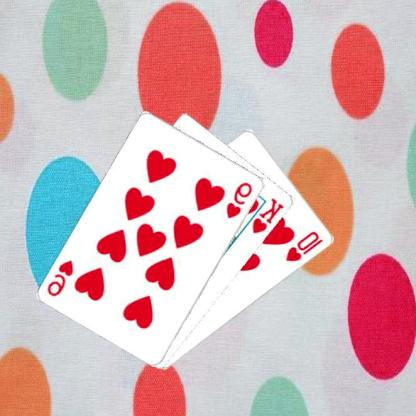10H: (285, 228, 326, 263)
9H: (46, 257, 78, 298), (226, 179, 256, 220)
KH: (252, 195, 288, 235)
